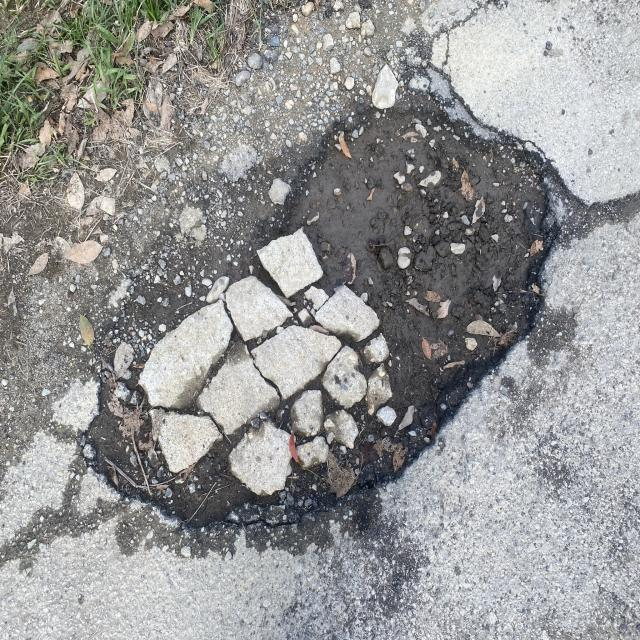pothole: (47, 114, 640, 561)
